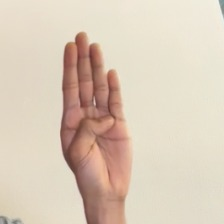B: (46, 24, 154, 217)
